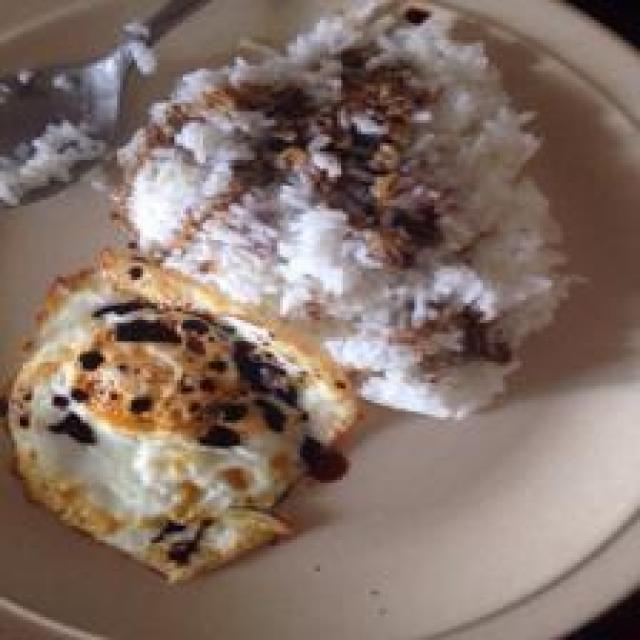Wet Waste: (121, 8, 560, 428)
